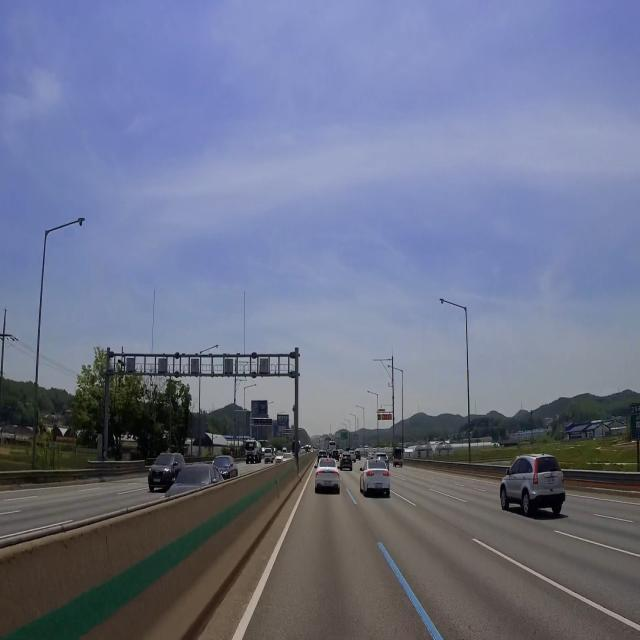car: (543, 476, 559, 492), (322, 477, 335, 491), (371, 482, 388, 490), (150, 476, 163, 486)
